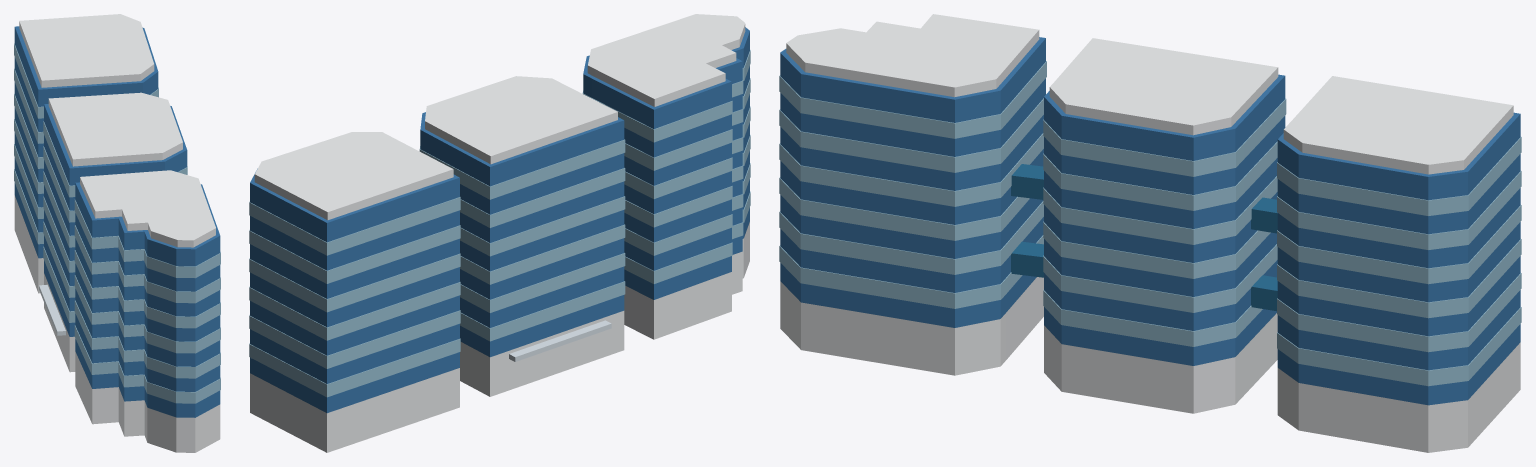
Rendered from chungyo-dept.glb.
The picture shows the model from 3 angles, left to right: view 1: azimuth 30°, elevation 25°; view 2: azimuth 150°, elevation 25°; view 3: azimuth 270°, elevation 25°; orthographic projection. The views are drawn at different scales.
Visible parts, largest first — view 1: chungyo-dept; view 2: chungyo-dept; view 3: chungyo-dept.
Boxes of the visible parts, box(x1,y1,x2,y2) form: chungyo-dept: box(14, 14, 220, 452); chungyo-dept: box(249, 14, 750, 452); chungyo-dept: box(779, 14, 1521, 452).
Size of the model in its own units: 69.23 by 58.8 by 138.
